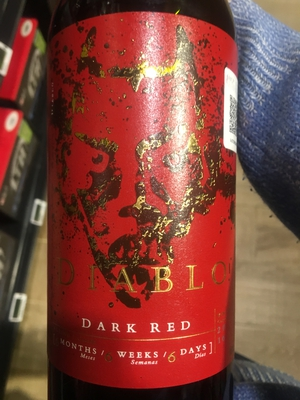diablo dark red: (41, 11, 251, 400)
